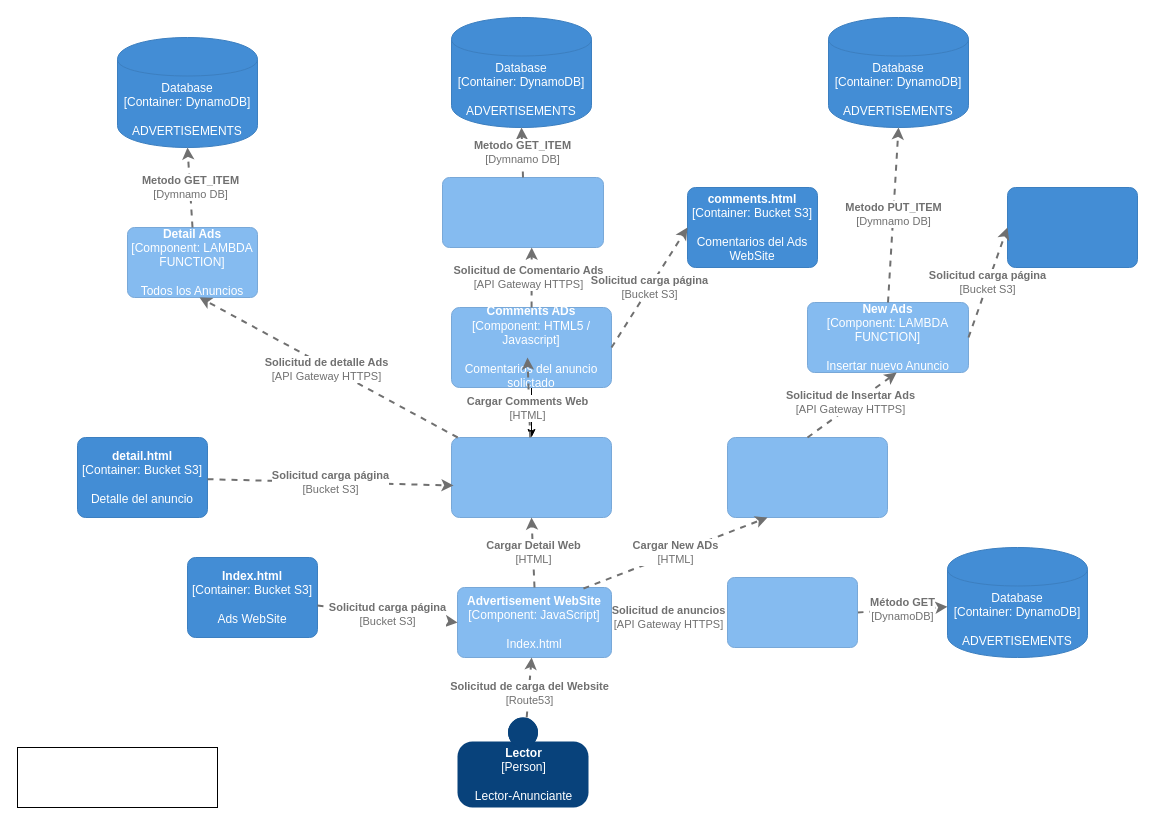
Image size: 1155x825. Some labels were removed from this diagram. Each missing label, with the box of its shape:
ALL Ads [Component: LAMBDA FUNCTION] Todos los Anuncios: (726, 576, 858, 648)
C4 MODEL ADVERTISEMENT WEBSITE: (16, 746, 218, 808)
Comments Ads [Component: LAMBDA FUNCTION] Comentarios del Anuncio: (442, 176, 604, 248)
Detail ADs [Component: HTML5 / Javascript] Detalle del anuncio solictado: (450, 436, 612, 518)
New ADs [Component: HTML5 / Javascript] Nuevo anuncio: (726, 436, 888, 518)
new.html [Container: Bucket S3] Nuevo anuncio del Ads WebSite: (1006, 186, 1138, 268)
